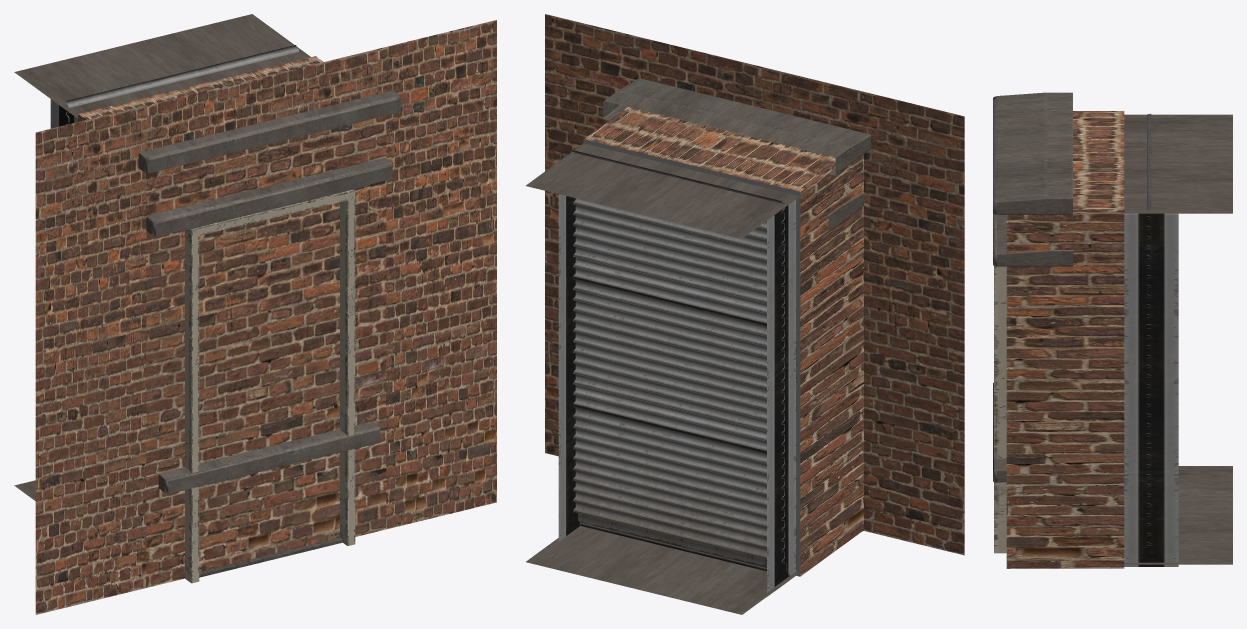
The model's file is modular_factory_facade.glb.
3 renders of one model, left to right at view 1: azimuth 30°, elevation 25°; view 2: azimuth 150°, elevation 25°; view 3: azimuth 270°, elevation 25°, orthographic. The views are drawn at different scales.
Parts seen in each view (by area): view 1: wall_door_garage_centered_01, wall_standard_standard_01, door_garage_centered_01, wall_door_centered_small_01, door, window; view 2: door_garage_centered_01, wall_window_centered_medium_01, wall_door_garage_centered_01, window; view 3: wall_door_garage_centered_01, door_garage_centered_01, door, window.
Boxes of the visible parts, bbox=[...] form: wall_door_garage_centered_01: bbox=[35, 20, 496, 614]; wall_standard_standard_01: bbox=[146, 115, 386, 579]; door_garage_centered_01: bbox=[14, 14, 400, 500]; wall_door_centered_small_01: bbox=[146, 125, 386, 587]; door: bbox=[177, 184, 369, 583]; window: bbox=[146, 157, 392, 494]; door_garage_centered_01: bbox=[525, 78, 870, 614]; wall_window_centered_medium_01: bbox=[545, 14, 964, 555]; wall_door_garage_centered_01: bbox=[584, 107, 863, 576]; window: bbox=[828, 193, 863, 232]; wall_door_garage_centered_01: bbox=[1006, 111, 1124, 568]; door_garage_centered_01: bbox=[993, 92, 1232, 566]; door: bbox=[994, 266, 1006, 553]; window: bbox=[993, 213, 1072, 482].
Bounding box in the file's own units: 1 × 1 × 0.53.
Materials: 5 (5 with a texture image).
